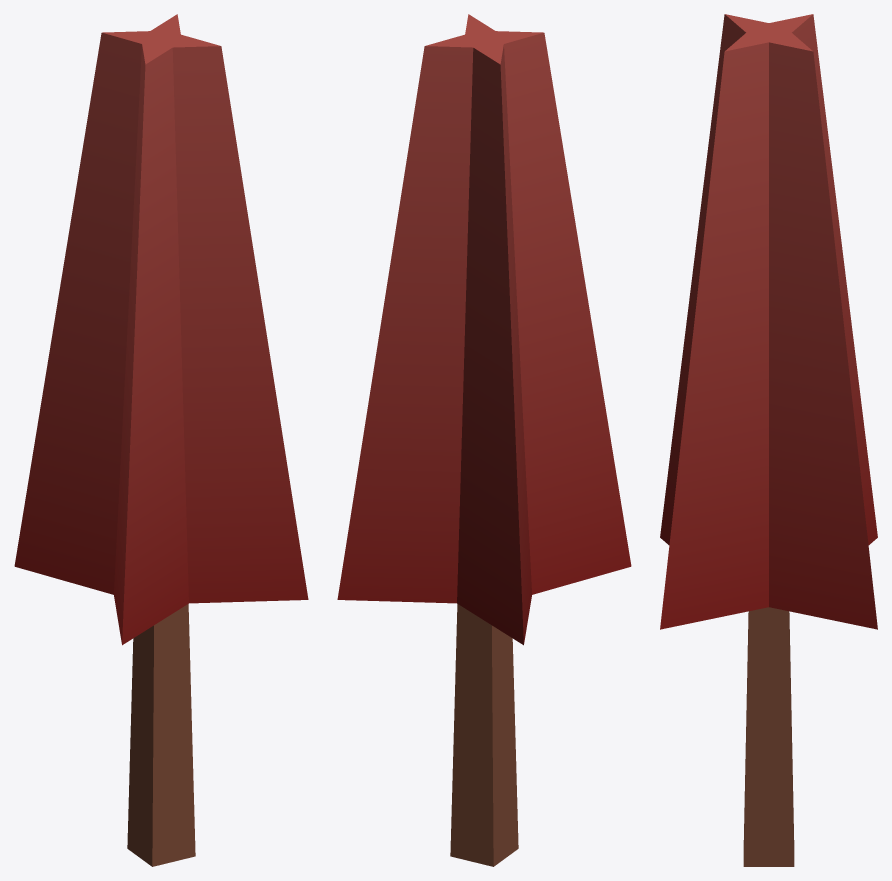
Rendered from Tree_27_gradient_red_vc.fbx.
The picture shows the model from 3 angles, left to right: view 1: azimuth 30°, elevation 25°; view 2: azimuth 150°, elevation 25°; view 3: azimuth 270°, elevation 25°; orthographic projection.
Parts seen in each view (by area): view 1: Tree_27_gradient_red_vc; view 2: Tree_27_gradient_red_vc; view 3: Tree_27_gradient_red_vc.
Boxes of the visible parts, x1,y1,x2,y2 form: Tree_27_gradient_red_vc: [14, 14, 308, 866]; Tree_27_gradient_red_vc: [337, 14, 631, 866]; Tree_27_gradient_red_vc: [660, 14, 877, 866].
Bounding box in the file's own units: 63.19 × 263 × 63.19.
